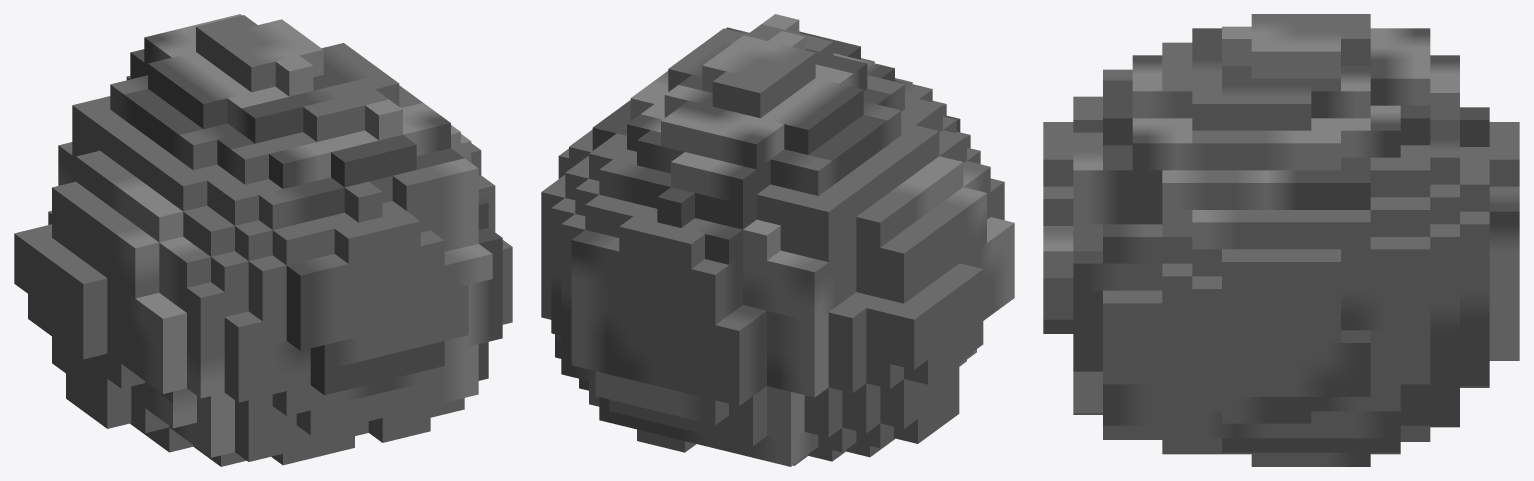
Rendered from Rock.fbx.
3 renders of one model, left to right at view 1: azimuth 30°, elevation 25°; view 2: azimuth 150°, elevation 25°; view 3: azimuth 270°, elevation 25°, orthographic. The views are drawn at different scales.
Bounding box in the file's own units: 16 × 14 × 16.
Materials: 1 (1 with a texture image).
